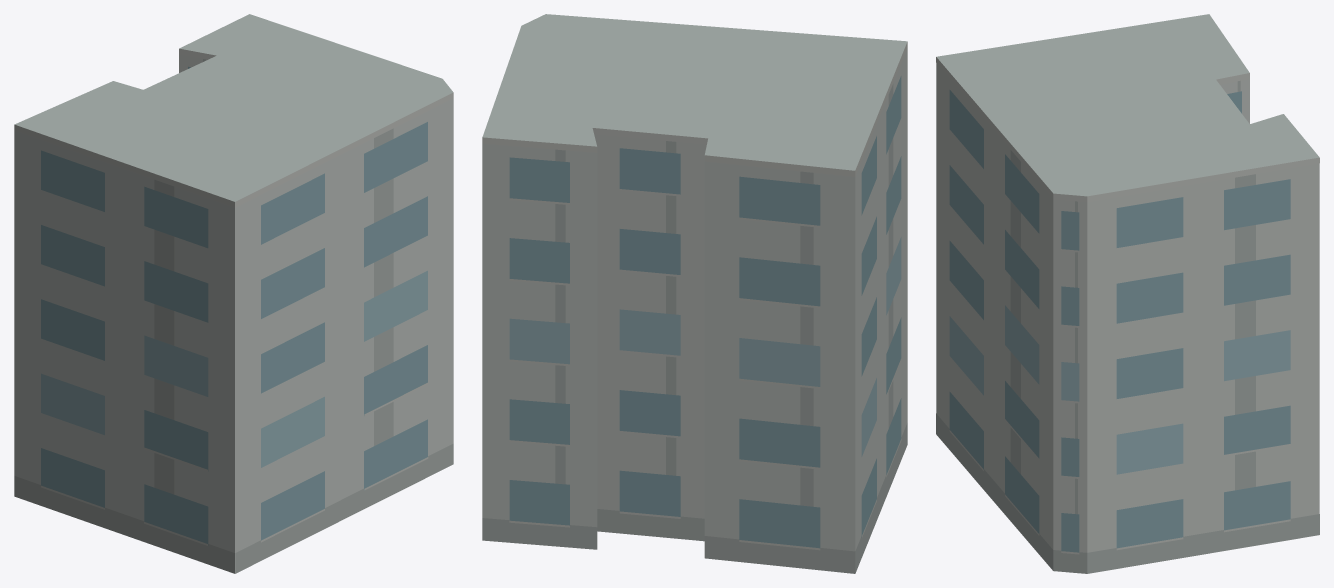
The model's file is survey-upis-32864798.glb.
3 renders of one model, left to right at view 1: azimuth 30°, elevation 25°; view 2: azimuth 150°, elevation 25°; view 3: azimuth 270°, elevation 25°, orthographic. The views are drawn at different scales.
Parts seen in each view (by area): view 1: survey-upis-32864798.tmp; view 2: survey-upis-32864798.tmp; view 3: survey-upis-32864798.tmp.
Boxes of the visible parts, x1,y1,x2,y2 form: survey-upis-32864798.tmp: [14, 14, 453, 573]; survey-upis-32864798.tmp: [482, 14, 907, 573]; survey-upis-32864798.tmp: [936, 14, 1319, 573].
Bounding box in the file's own units: 15.96 × 15.4 × 14.19.
